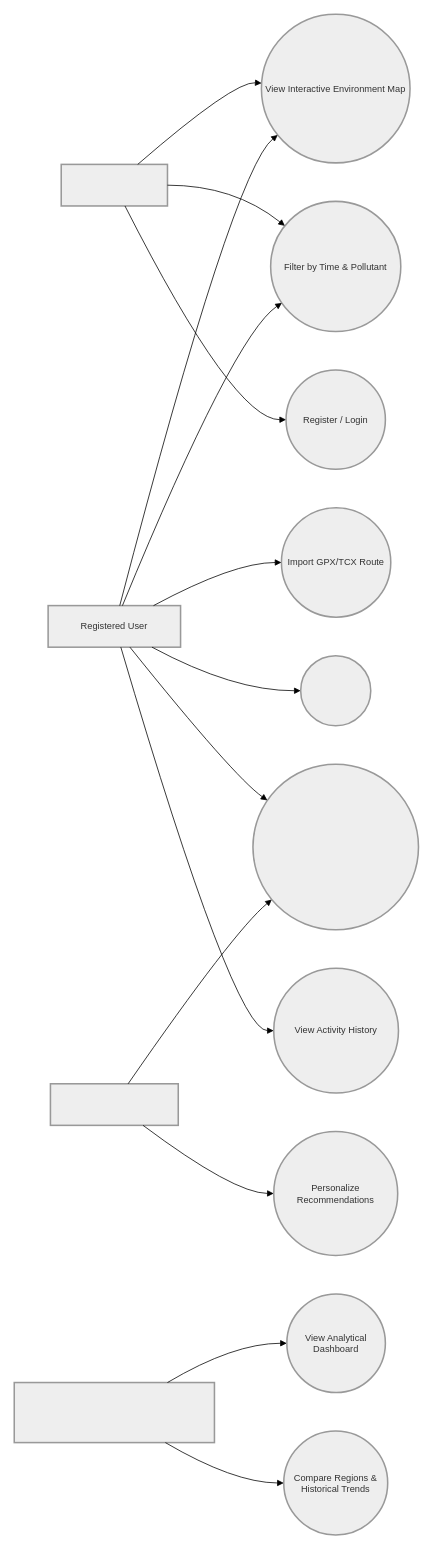
The diagram is 432 pixels wide and 1548 high, and some of its shapes have lost their labels. Each missing label, with the box of its shape:
Advanced User: (49, 1083, 179, 1126)
Calculate Eco-Score & Get Recommendations: (252, 763, 419, 930)
Guest User: (60, 163, 168, 206)
Researcher / Admin: (13, 1381, 215, 1443)
Save Route: (300, 654, 371, 726)
